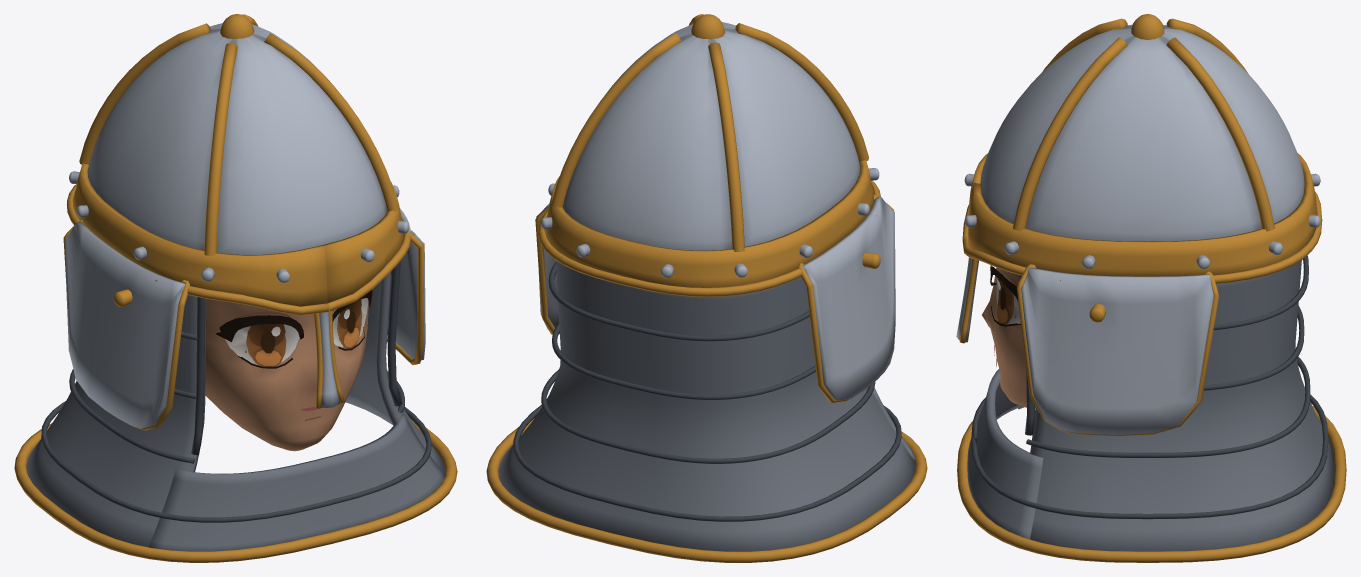
File: h_nasal_f.glb
The picture shows the model from 3 angles, left to right: view 1: azimuth 30°, elevation 25°; view 2: azimuth 150°, elevation 25°; view 3: azimuth 270°, elevation 25°; orthographic projection.
Parts seen in each view (by area): view 1: Nasal, HeadMesh, LashR, EyeWhiteR; view 2: Nasal; view 3: Nasal, HeadMesh.
Part boxes in pixels (left/top/right/bottom): Nasal: left=14, top=14, right=457, bottom=562; HeadMesh: left=205, top=299, right=368, bottom=451; LashR: left=216, top=315, right=303, bottom=368; EyeWhiteR: left=225, top=324, right=299, bottom=364; Nasal: left=486, top=14, right=927, bottom=562; Nasal: left=956, top=14, right=1346, bottom=562; HeadMesh: left=982, top=267, right=1035, bottom=408.
Size of the model in its own units: 0.317 by 0.379 by 0.2915.
